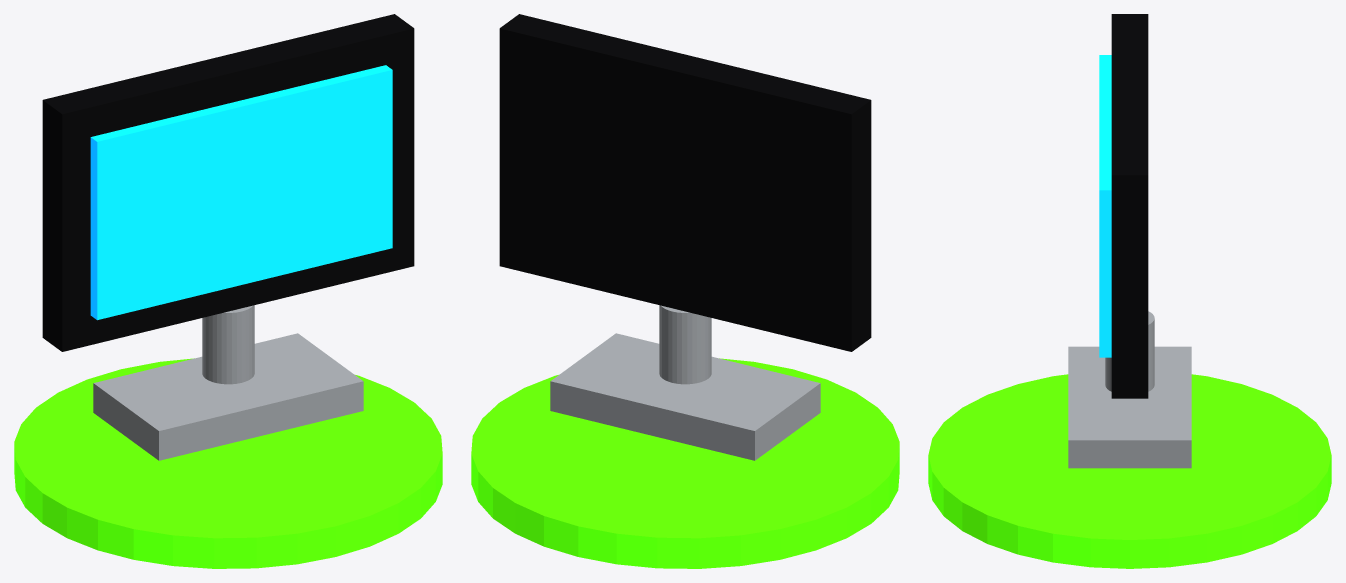
File: tech_monitor.dae
3 renders of one model, left to right at view 1: azimuth 30°, elevation 25°; view 2: azimuth 150°, elevation 25°; view 3: azimuth 270°, elevation 25°, orthographic. The views are drawn at different scales.
Parts seen in each view (by area): view 1: 08_13_Popular_Tech_Monitor_part_02, 08_13_Popular_Tech_Monitor_ROOT_base, 08_13_Popular_Tech_Monitor_part_01, 08_13_Popular_Tech_Monitor_part_04, 08_13_Popular_Tech_Monitor_part_03; view 2: 08_13_Popular_Tech_Monitor_part_01, 08_13_Popular_Tech_Monitor_ROOT_base, 08_13_Popular_Tech_Monitor_part_04, 08_13_Popular_Tech_Monitor_part_03; view 3: 08_13_Popular_Tech_Monitor_ROOT_base, 08_13_Popular_Tech_Monitor_part_01, 08_13_Popular_Tech_Monitor_part_04, 08_13_Popular_Tech_Monitor_part_02, 08_13_Popular_Tech_Monitor_part_03.
Boxes of the visible parts, x1,y1,x2,y2 form: 08_13_Popular_Tech_Monitor_part_02: (90, 65, 392, 320); 08_13_Popular_Tech_Monitor_ROOT_base: (14, 358, 442, 568); 08_13_Popular_Tech_Monitor_part_01: (42, 14, 414, 351); 08_13_Popular_Tech_Monitor_part_04: (93, 333, 363, 460); 08_13_Popular_Tech_Monitor_part_03: (202, 305, 254, 384); 08_13_Popular_Tech_Monitor_part_01: (499, 14, 871, 351); 08_13_Popular_Tech_Monitor_ROOT_base: (471, 358, 899, 568); 08_13_Popular_Tech_Monitor_part_04: (550, 333, 820, 460); 08_13_Popular_Tech_Monitor_part_03: (659, 305, 711, 384); 08_13_Popular_Tech_Monitor_ROOT_base: (928, 374, 1331, 568); 08_13_Popular_Tech_Monitor_part_01: (1111, 14, 1148, 398); 08_13_Popular_Tech_Monitor_part_04: (1068, 346, 1191, 468); 08_13_Popular_Tech_Monitor_part_02: (1099, 55, 1111, 357); 08_13_Popular_Tech_Monitor_part_03: (1105, 311, 1154, 391).
Bounding box in the file's own units: 0.76 × 0.8094 × 0.76.
